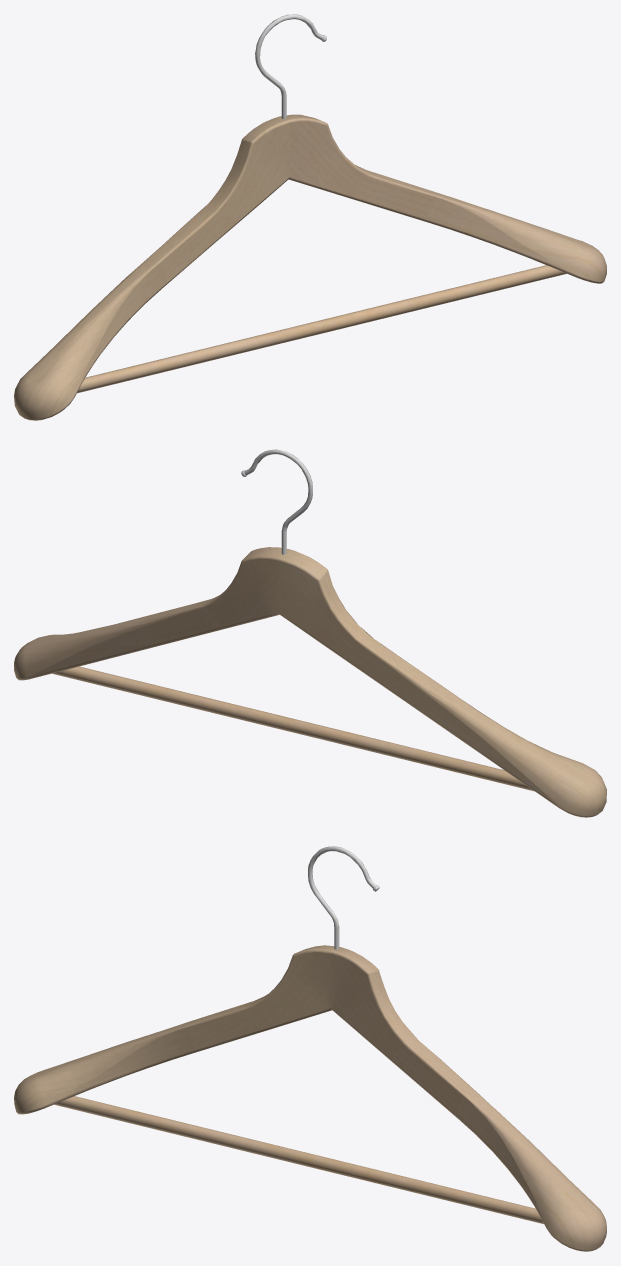
Rendered from bumerang_wieszak_na_paszcze_90444267.glb.
The picture shows the model from 3 angles, top to bottom: view 1: azimuth 30°, elevation 25°; view 2: azimuth 150°, elevation 25°; view 3: azimuth 330°, elevation 25°; orthographic projection.
Visible parts, largest first — view 1: bumerang_wieszak_na_paszcze_90444267; view 2: bumerang_wieszak_na_paszcze_90444267; view 3: bumerang_wieszak_na_paszcze_90444267.
Boxes of the visible parts, x1=… form: bumerang_wieszak_na_paszcze_90444267: x1=14, y1=14, x2=606, y2=420; bumerang_wieszak_na_paszcze_90444267: x1=14, y1=449, x2=606, y2=817; bumerang_wieszak_na_paszcze_90444267: x1=14, y1=846, x2=606, y2=1251.
Bounding box in the file's own units: 0.4592 × 0.2344 × 0.0652.
Materials: 1 (1 with a texture image).
